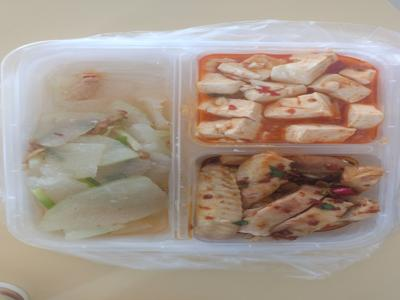df: (191, 47, 385, 145)
dg: (10, 62, 176, 236)
j1: (184, 145, 374, 248)
